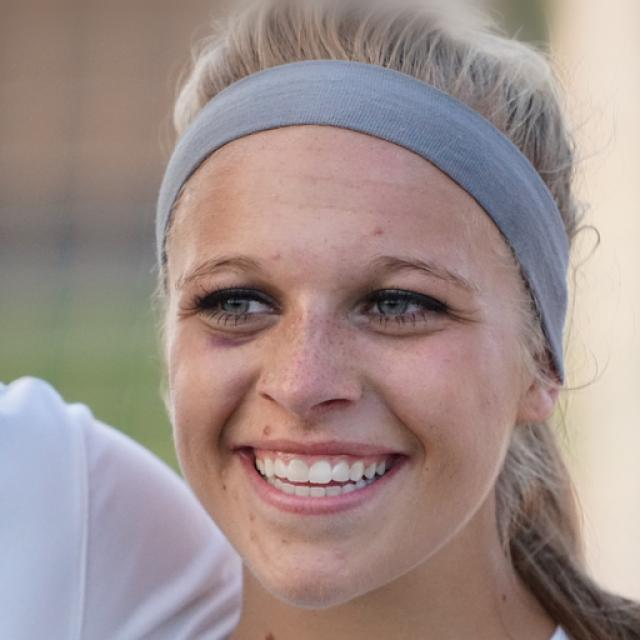Acne: (372, 224, 389, 237), (257, 425, 274, 437), (272, 249, 283, 262)
Dark Circle: (355, 317, 448, 341), (199, 310, 277, 334)
